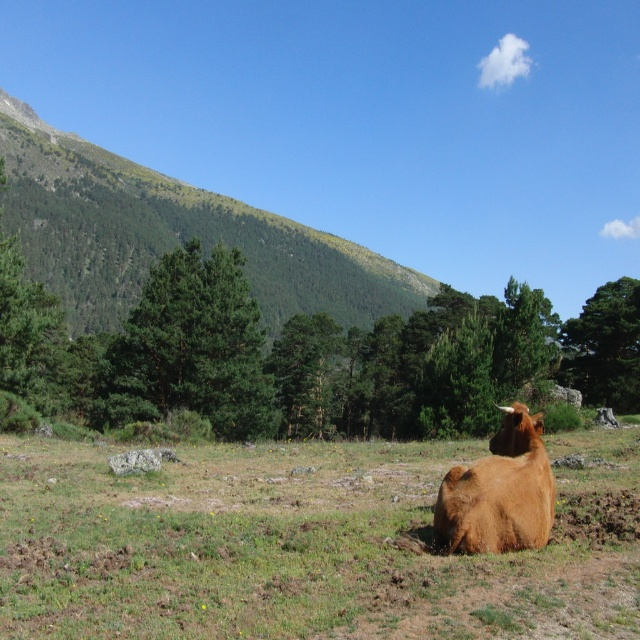Cattle: (424, 394, 564, 565)
